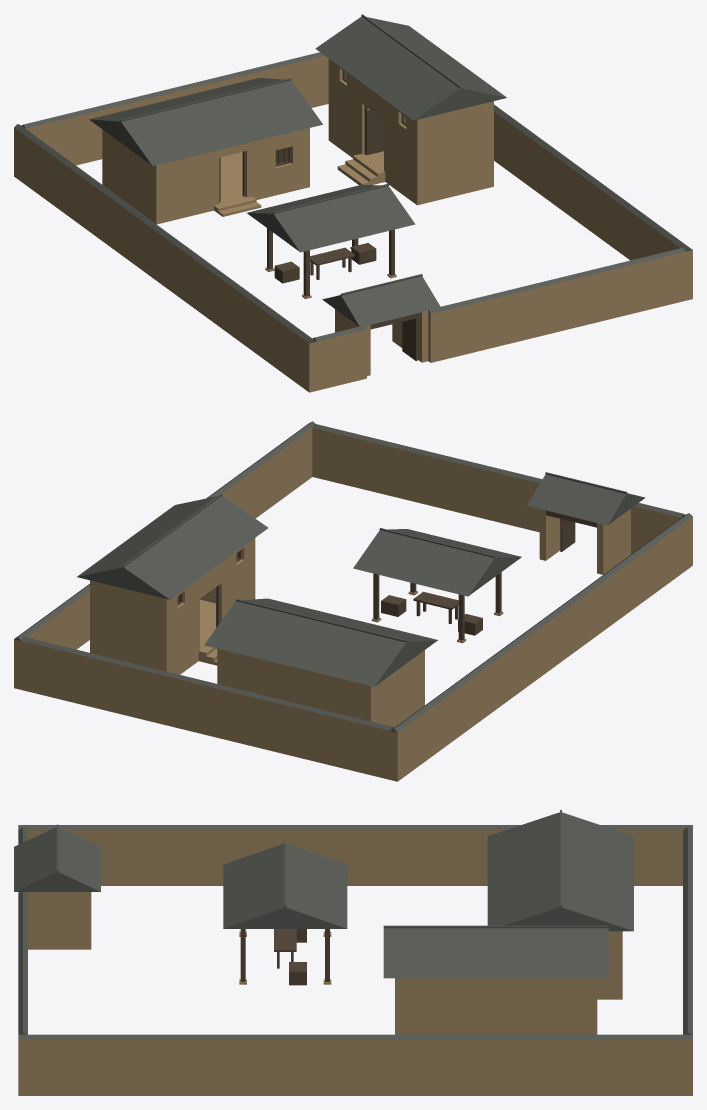
File: court-B2-LOD2.glb
The picture shows the model from 3 angles, top to bottom: view 1: azimuth 30°, elevation 25°; view 2: azimuth 150°, elevation 25°; view 3: azimuth 270°, elevation 25°; orthographic projection. The views are drawn at different scales.
Parts seen in each view (by area): view 1: court-B2-static_earth, court-B2-static_tile, court-B2-static_timber; view 2: court-B2-static_earth, court-B2-static_tile, court-B2-static_timber; view 3: court-B2-static_earth, court-B2-static_tile, court-B2-static_timber.
Boxes of the visible parts, x1,y1,x2,y2 form: court-B2-static_earth: [14, 56, 692, 392]; court-B2-static_tile: [14, 14, 692, 343]; court-B2-static_timber: [219, 71, 421, 360]; court-B2-static_earth: [14, 428, 692, 781]; court-B2-static_tile: [14, 421, 692, 732]; court-B2-static_timber: [177, 510, 596, 640]; court-B2-static_earth: [18, 830, 692, 1095]; court-B2-static_tile: [14, 810, 692, 1039]; court-B2-static_timber: [240, 929, 329, 985].
Size of the model in its own units: 18 by 5.07 by 24.15.
